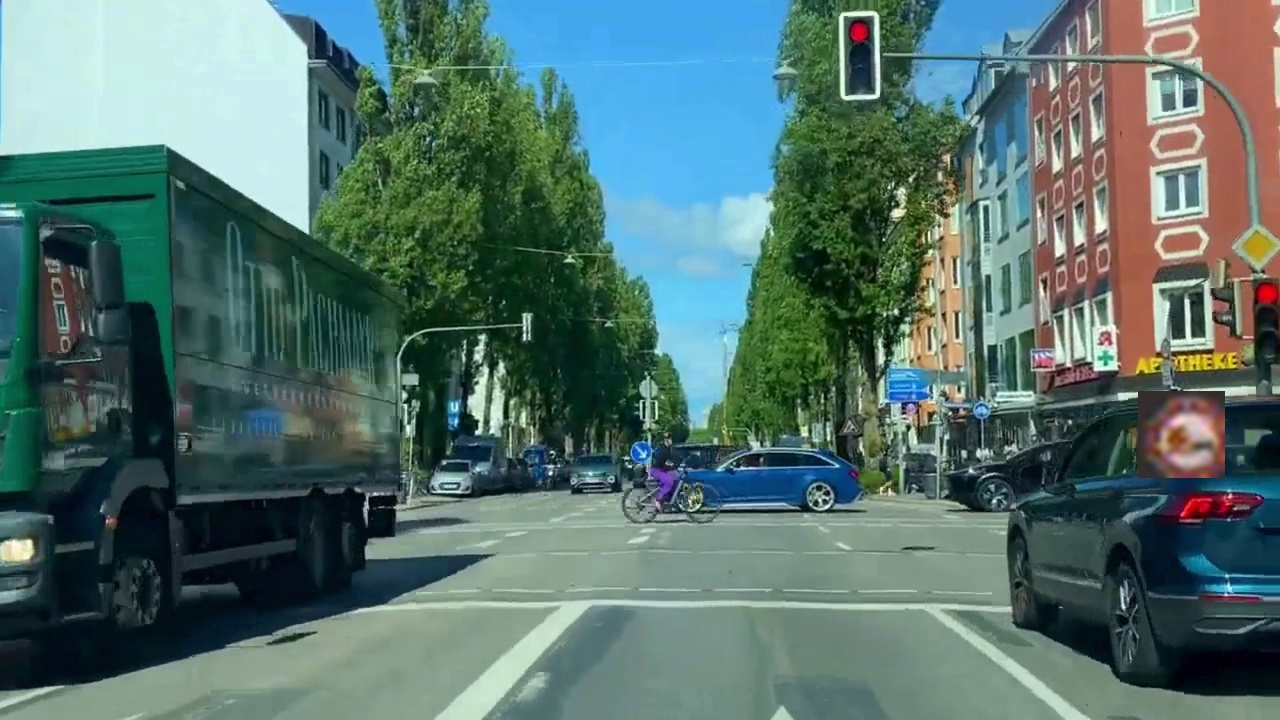No pass >3.5t: (1138, 391, 1225, 478)
